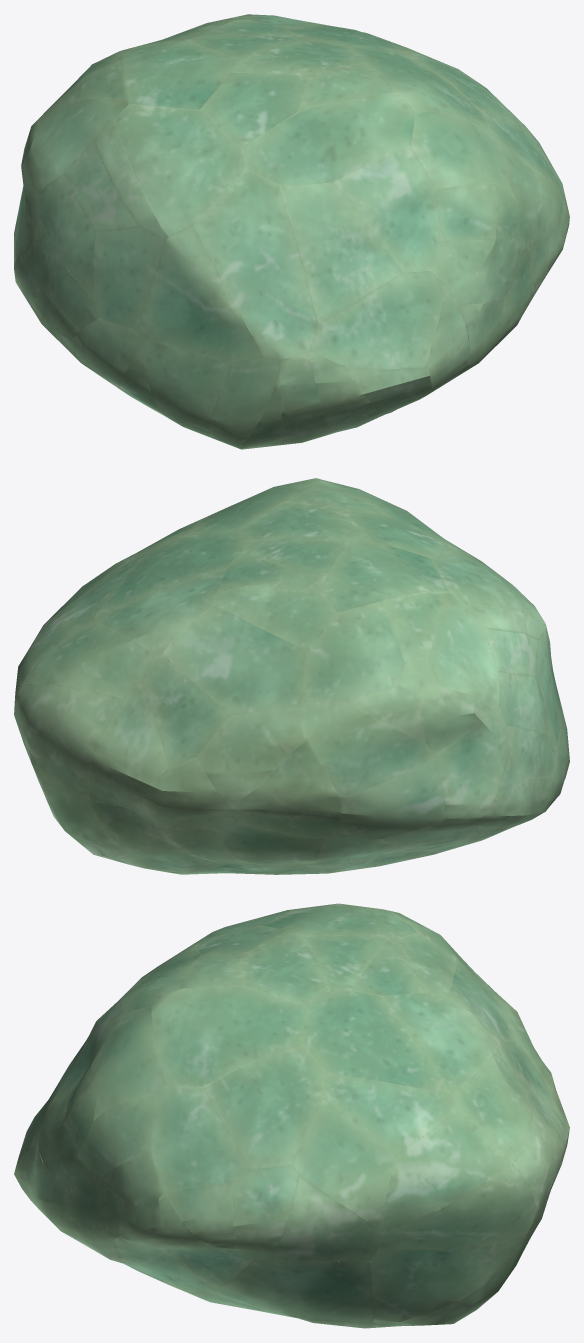
Rendered from JadeStone14.fbx.
3 renders of one model, top to bottom at view 1: azimuth 30°, elevation 25°; view 2: azimuth 150°, elevation 25°; view 3: azimuth 270°, elevation 25°, orthographic.
Parts seen in each view (by area): view 1: asa_cell.122, asa_cell.143, asa_cell.136, asa_cell.174, asa_cell.113, asa_cell.121, asa_cell.141, asa_cell.151, asa_cell.107, asa_cell.115, asa_cell.183, asa_cell.112 (+35 smaller); view 2: asa_cell.145, asa_cell.161, asa_cell.186, asa_cell.149, asa_cell.160, asa_cell.100, asa_cell.150, asa_cell.151, asa_cell.117, asa_cell.148, asa_cell.195, asa_cell.173 (+38 smaller); view 3: asa_cell.165, asa_cell.152, asa_cell.167, asa_cell.162, asa_cell.129, asa_cell.194, asa_cell.166, asa_cell.178, asa_cell.190, asa_cell.168, asa_cell.184, asa_cell.101 (+36 smaller).
Boxes of the visible parts, <box> form: asa_cell.122: <box>193,171,318,359</box>; asa_cell.143: <box>113,104,248,238</box>; asa_cell.136: <box>241,92,415,186</box>; asa_cell.174: <box>138,225,263,363</box>; asa_cell.113: <box>280,182,402,324</box>; asa_cell.121: <box>309,271,445,369</box>; asa_cell.141: <box>332,146,443,272</box>; asa_cell.151: <box>121,40,239,109</box>; asa_cell.107: <box>92,226,165,329</box>; asa_cell.115: <box>410,111,510,189</box>; asa_cell.183: <box>142,338,229,436</box>; asa_cell.112: <box>200,72,310,147</box>; asa_cell.145: <box>162,606,308,714</box>; asa_cell.161: <box>302,702,434,799</box>; asa_cell.186: <box>19,683,122,799</box>; asa_cell.149: <box>305,601,404,703</box>; asa_cell.160: <box>232,739,341,838</box>; asa_cell.100: <box>197,708,306,808</box>; asa_cell.150: <box>90,678,168,810</box>; asa_cell.151: <box>322,539,448,612</box>; asa_cell.117: <box>23,622,153,698</box>; asa_cell.148: <box>339,758,448,838</box>; asa_cell.195: <box>434,705,508,821</box>; asa_cell.173: <box>142,654,228,767</box>; asa_cell.165: <box>151,987,304,1086</box>; asa_cell.152: <box>202,1044,325,1169</box>; asa_cell.167: <box>303,991,449,1093</box>; asa_cell.162: <box>378,1111,508,1234</box>; asa_cell.129: <box>370,1226,532,1323</box>; asa_cell.194: <box>215,1259,373,1322</box>; asa_cell.166: <box>290,1098,394,1228</box>; asa_cell.178: <box>153,1086,249,1191</box>; asa_cell.190: <box>378,1163,537,1249</box>; asa_cell.168: <box>323,1073,460,1156</box>; asa_cell.184: <box>382,993,499,1095</box>; asa_cell.101: <box>267,1175,381,1261</box>.
Size of the model in its own units: 306 by 192 by 314.
